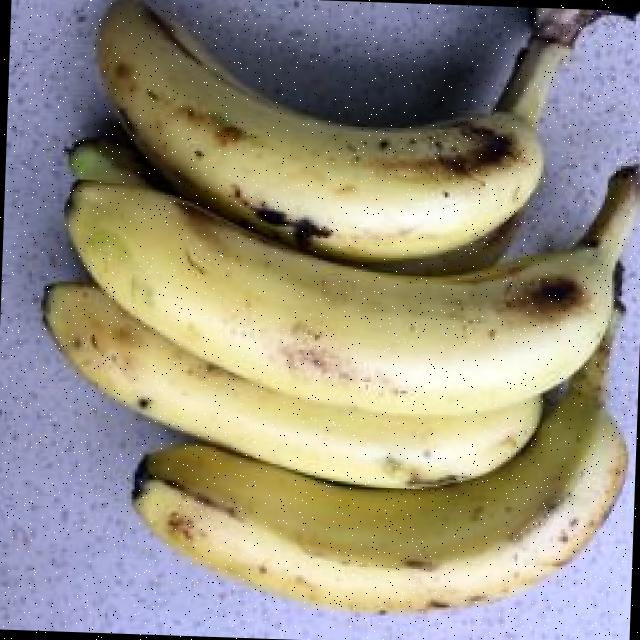banana: (136, 328, 626, 611), (67, 185, 631, 415), (99, 0, 592, 263), (44, 286, 541, 488)
